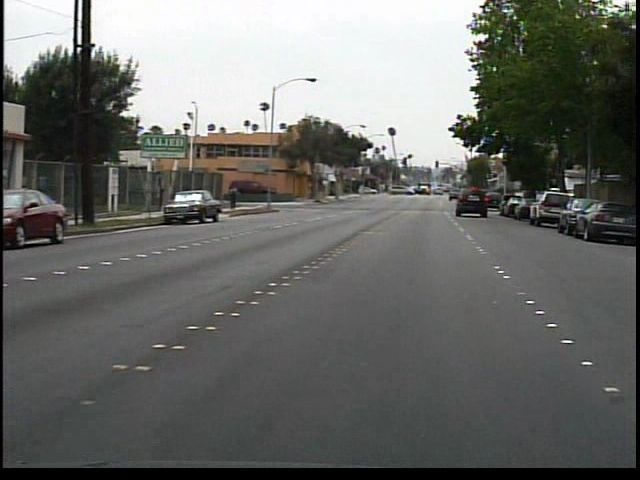person: (232, 181, 248, 214)
